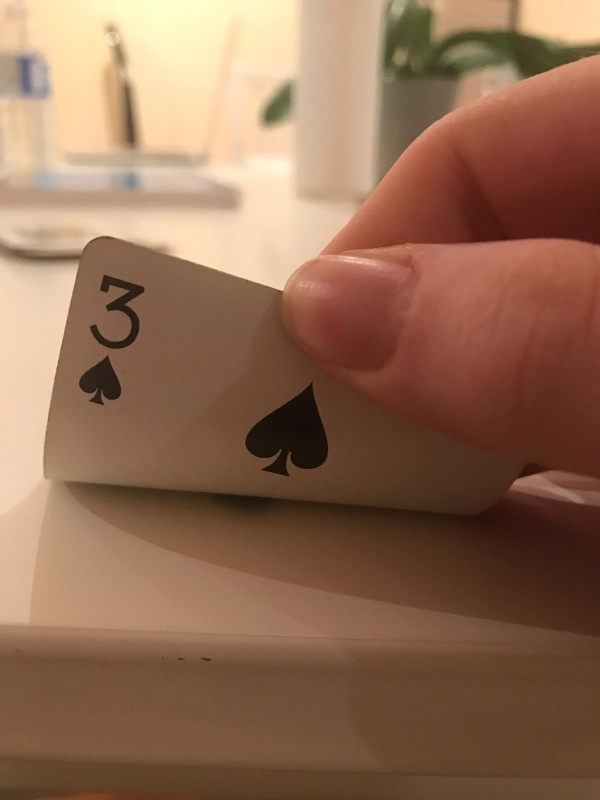S3: (78, 265, 151, 412)
